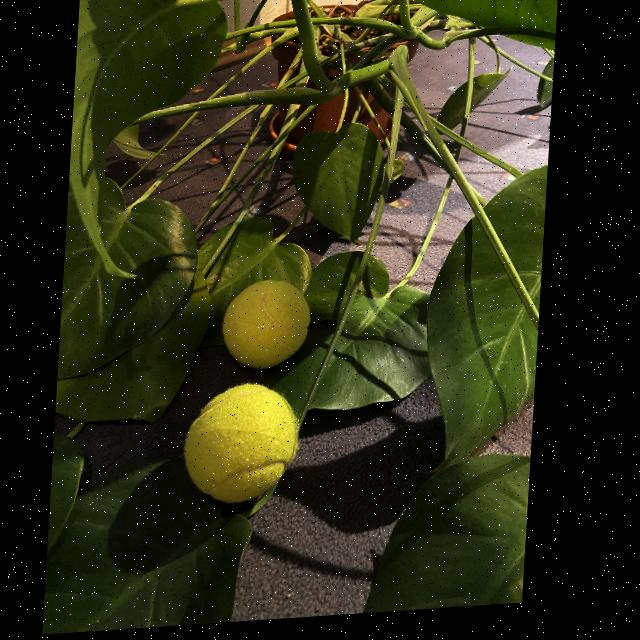Tennisball: (184, 383, 299, 503), (222, 280, 310, 369)
